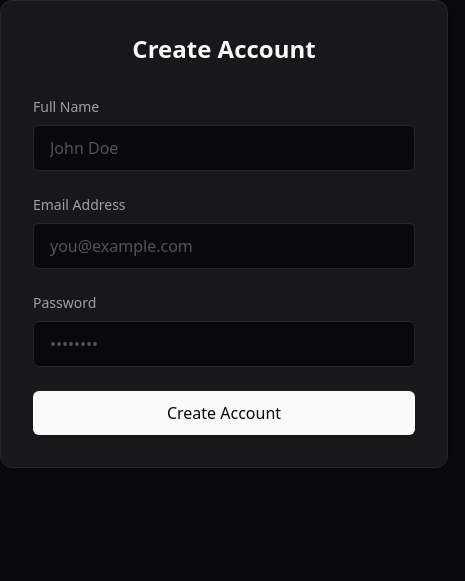
Test case: RegisterForm › shows validation errors for empty submission
The width and height of the screenshot is (465, 581).
Click the button "Create Account": [224, 413] box x1=33 y1=391 x2=415 y2=435
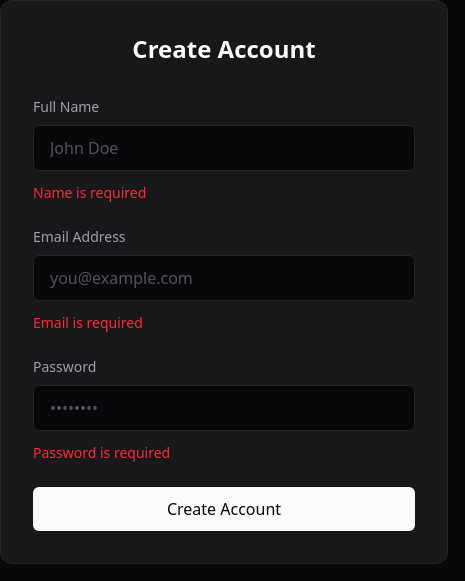
Expected: the text "Name is required" is shown, x1=33 y1=183 x2=146 y2=202
Expected: the text "Email is required" is shown, x1=33 y1=313 x2=143 y2=332
Expected: the text "Password is required" is shown, x1=33 y1=443 x2=170 y2=462
